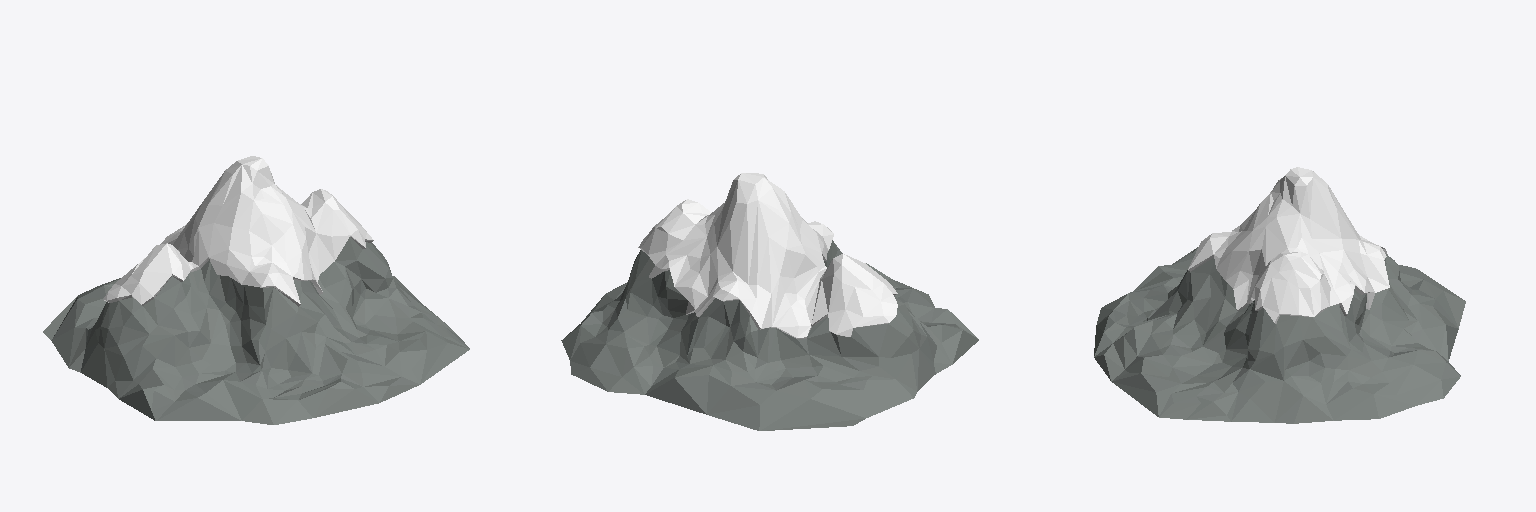
3 renders of one model, left to right at view 1: azimuth 30°, elevation 25°; view 2: azimuth 150°, elevation 25°; view 3: azimuth 270°, elevation 25°, orthographic.
Parts seen in each view (by area): view 1: Object_1; view 2: Object_1; view 3: Object_1.
Part boxes in pixels (x1,y1,x2,y2): Object_1: (43, 156, 469, 424); Object_1: (561, 173, 978, 430); Object_1: (1094, 167, 1465, 423).
Size of the model in its own units: 20773 by 10311 by 20094.
Materials: 1 (1 with a texture image).